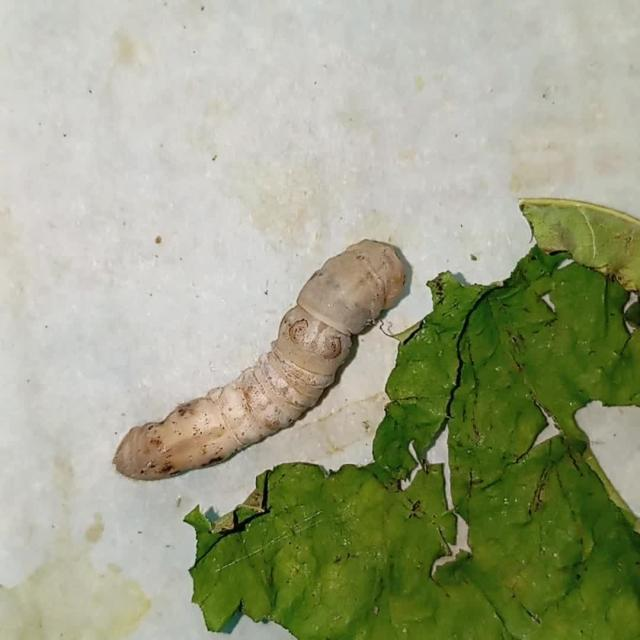Grasserie: (102, 227, 415, 486)
